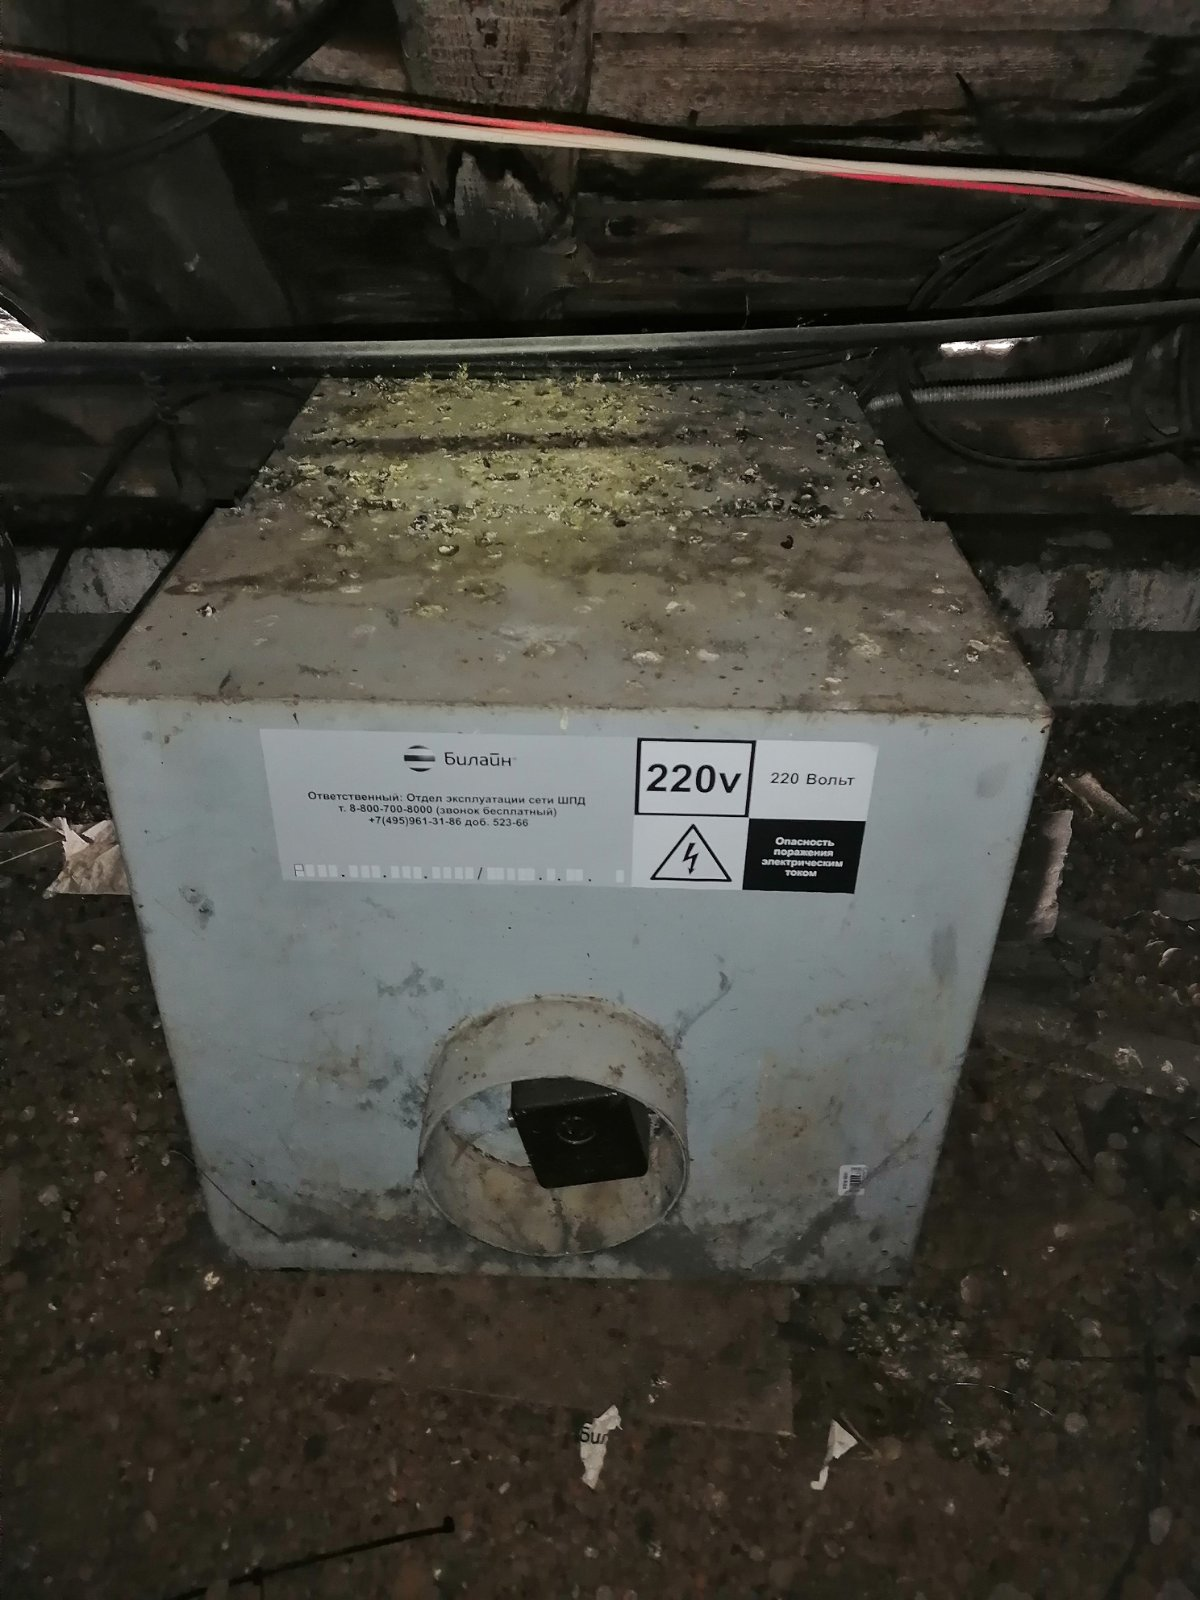shta-9: (79, 346, 1070, 1291)
